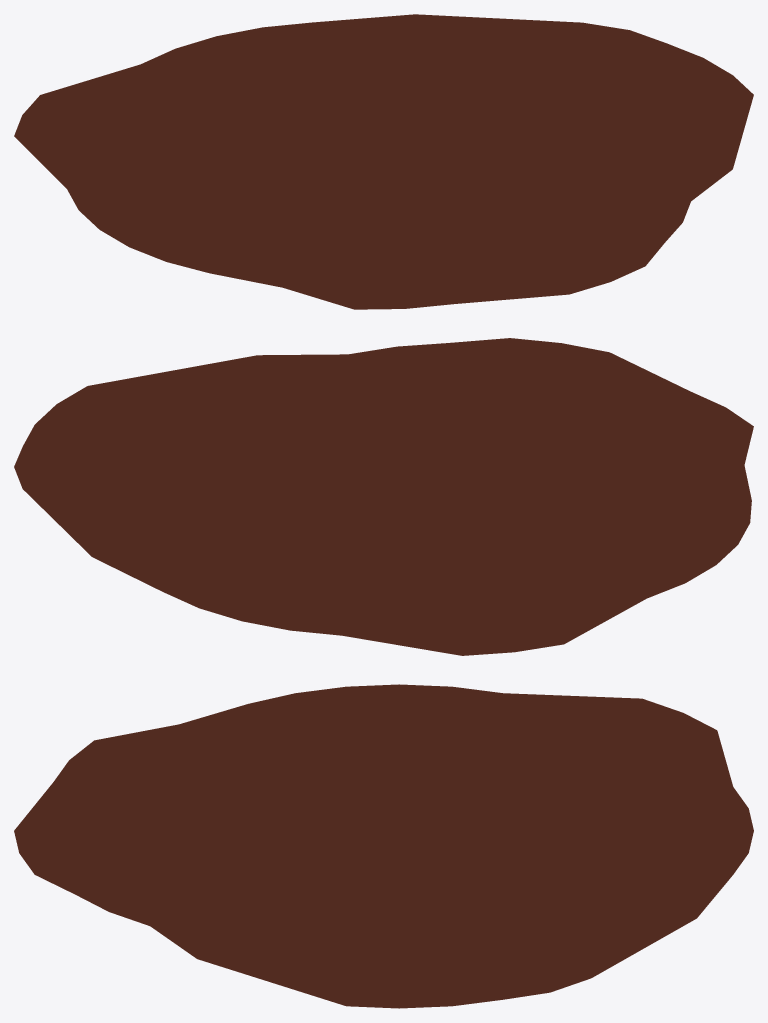
File: kaluza.fbx
3 renders of one model, top to bottom at view 1: azimuth 30°, elevation 25°; view 2: azimuth 150°, elevation 25°; view 3: azimuth 270°, elevation 25°, orthographic. The views are drawn at different scales.
Visible parts, largest first — view 1: Circle; view 2: Circle; view 3: Circle.
Boxes of the visible parts, bbox=[...] form: Circle: bbox=[14, 14, 753, 309]; Circle: bbox=[14, 338, 753, 655]; Circle: bbox=[14, 684, 753, 1008].
Bounding box in the file's own units: 282 × 0.5549 × 272.
